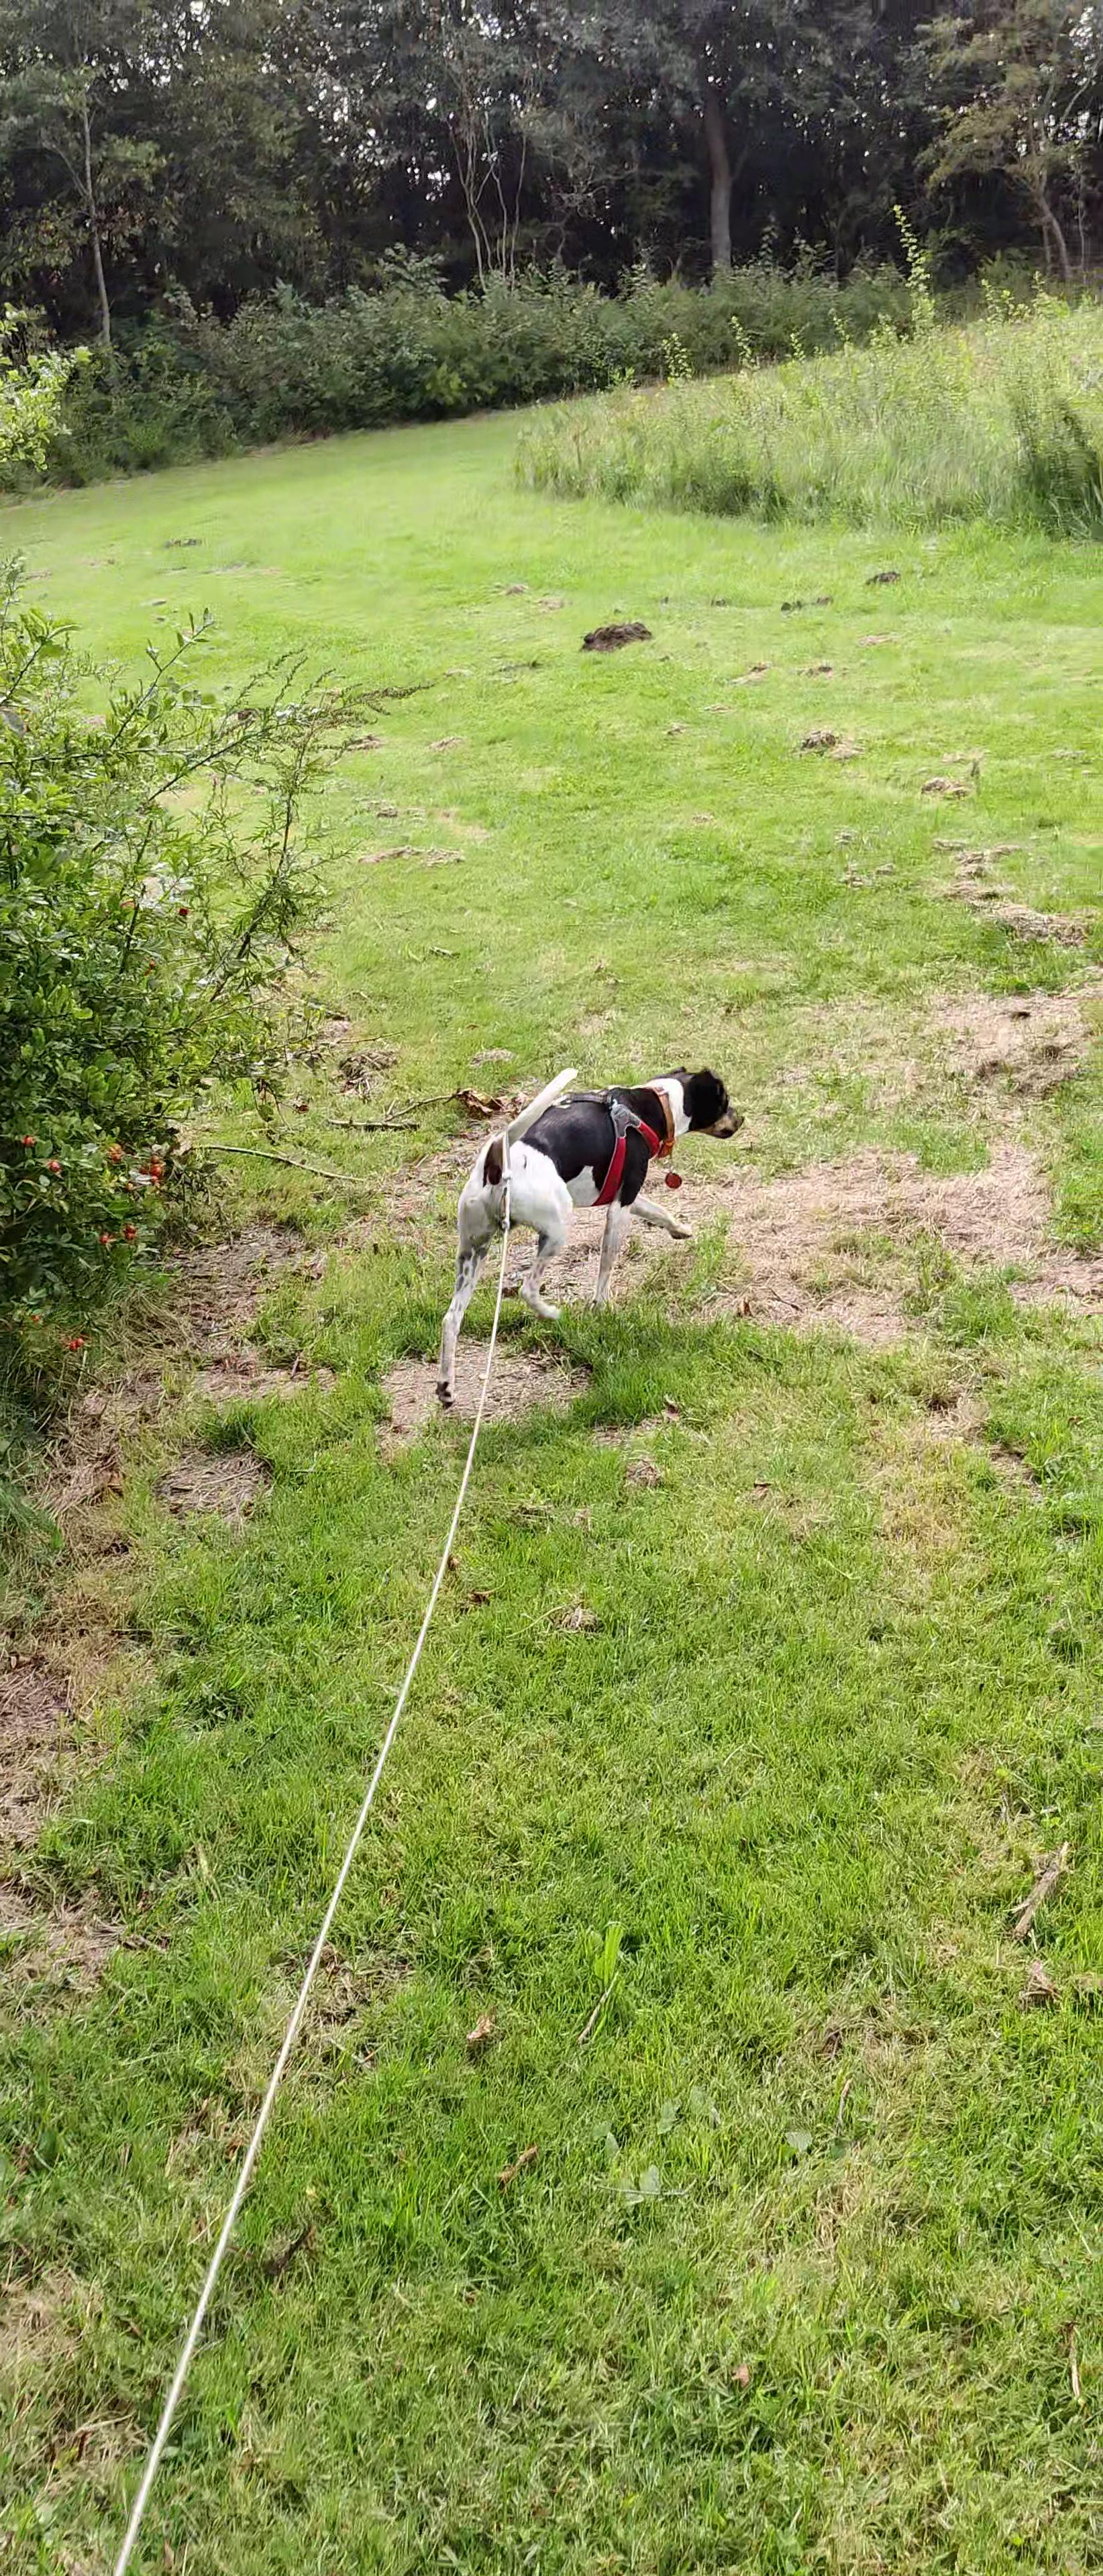Dog: (413, 1032, 774, 1426)
